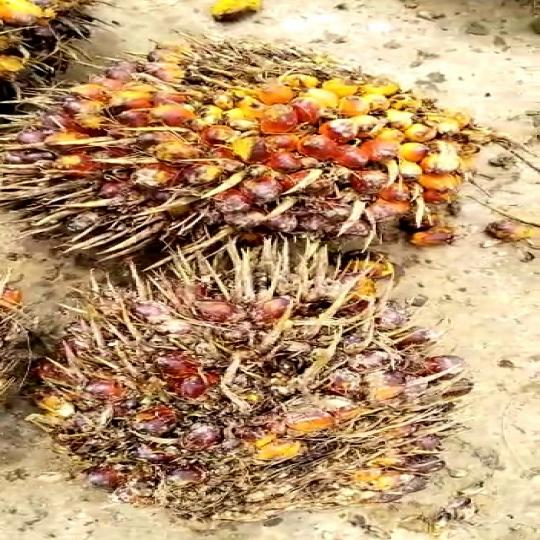masak: (32, 233, 486, 532), (0, 39, 480, 270)
